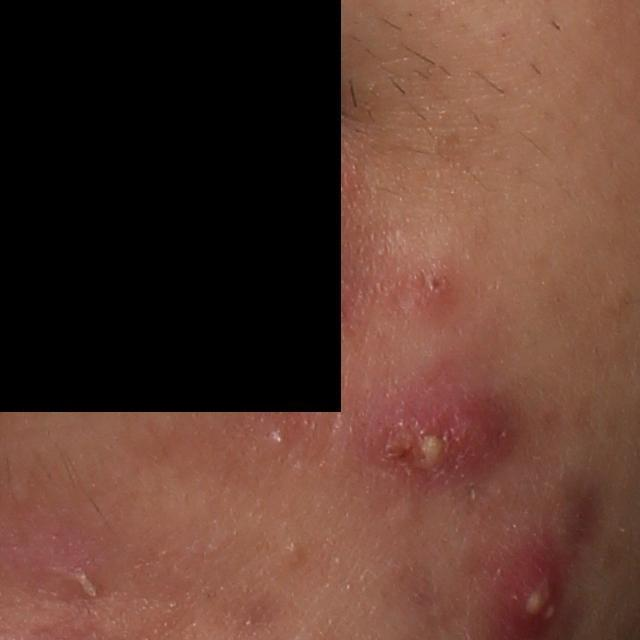comedo: (281, 543, 306, 569), (269, 429, 287, 451)
nodule: (348, 377, 527, 486)
papule: (410, 267, 453, 312)
